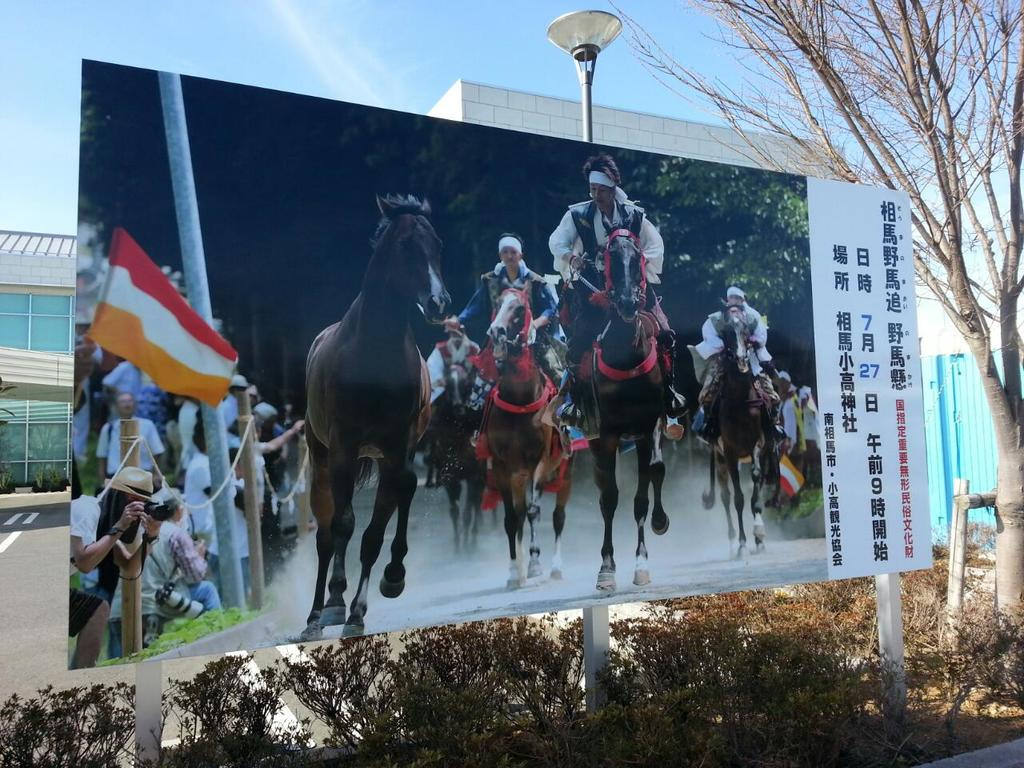Tree: (601, 0, 1023, 663)
